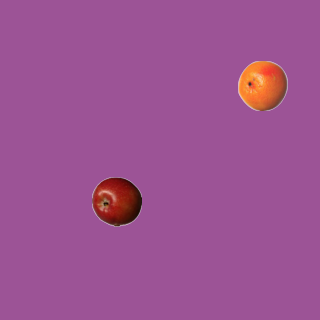Apple Braeburn: (91, 176, 141, 226)
Grapefruit Pink: (237, 60, 287, 110)
